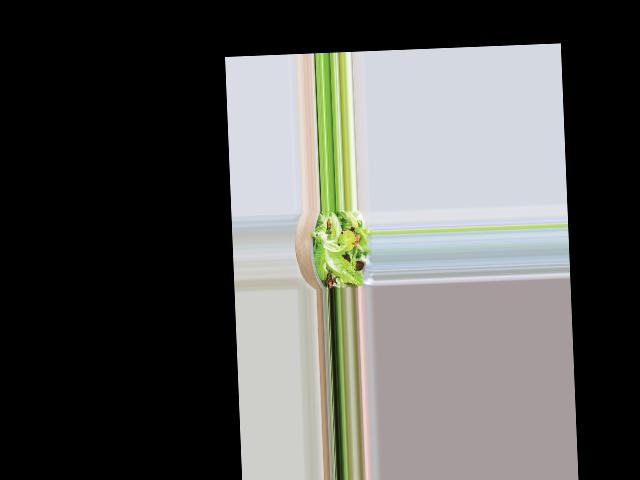lettuce: (311, 213, 368, 282)
